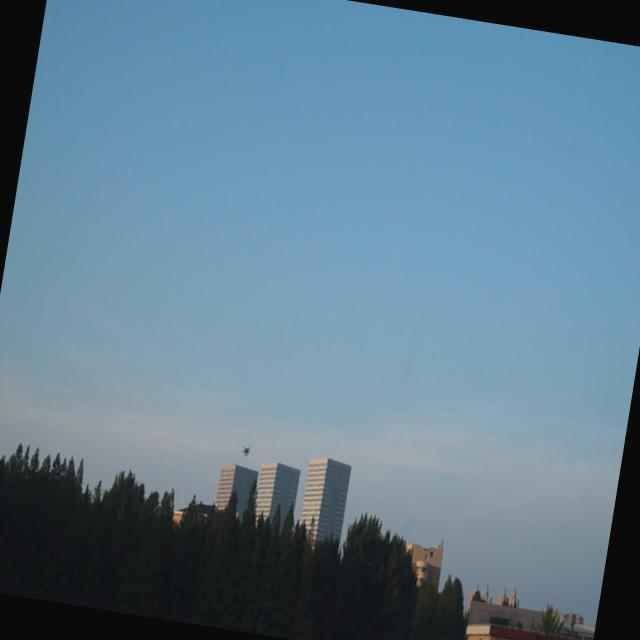drone: (240, 442, 253, 461)
